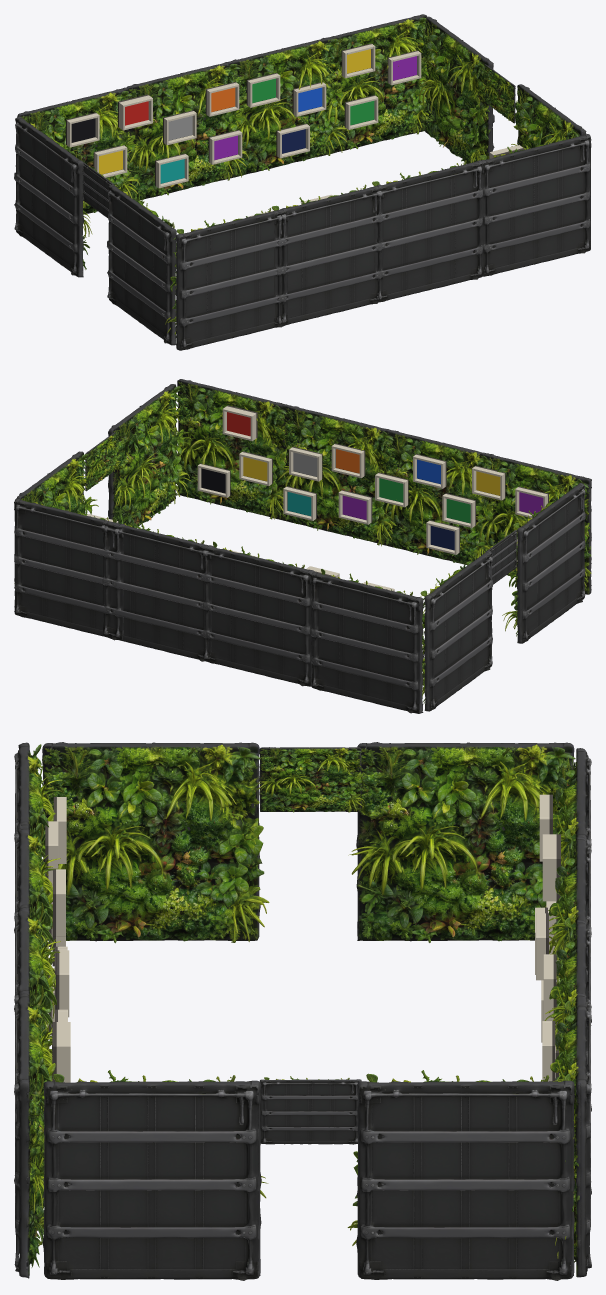
File: SILENT_Room_02_B_Objects.fbx
3 views of the same model, one above another, from view 1: azimuth 30°, elevation 25°; view 2: azimuth 150°, elevation 25°; view 3: azimuth 270°, elevation 25° (orthographic). The views are drawn at different scales.
Visible parts, largest first — view 1: Room_02_B_Tripo, Room_02_B_FrameBody; view 2: Room_02_B_Tripo, Room_02_B_FrameBody; view 3: Room_02_B_Tripo, Room_02_B_FrameBody.
Part boxes in pixels (x1,y1,x2,y2): Room_02_B_Tripo: [14, 14, 591, 350]; Room_02_B_FrameBody: [66, 43, 524, 217]; Room_02_B_Tripo: [14, 379, 591, 713]; Room_02_B_FrameBody: [86, 405, 548, 591]; Room_02_B_Tripo: [14, 742, 591, 1280]; Room_02_B_FrameBody: [45, 794, 560, 1082].
Size of the model in its own units: 14.15 by 3.81 by 9.87.
68 materials, 14 textured.
